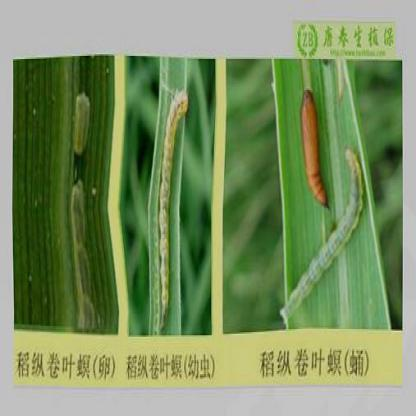leaf-folder: (273, 87, 373, 308), (53, 82, 104, 333), (148, 74, 188, 324)
